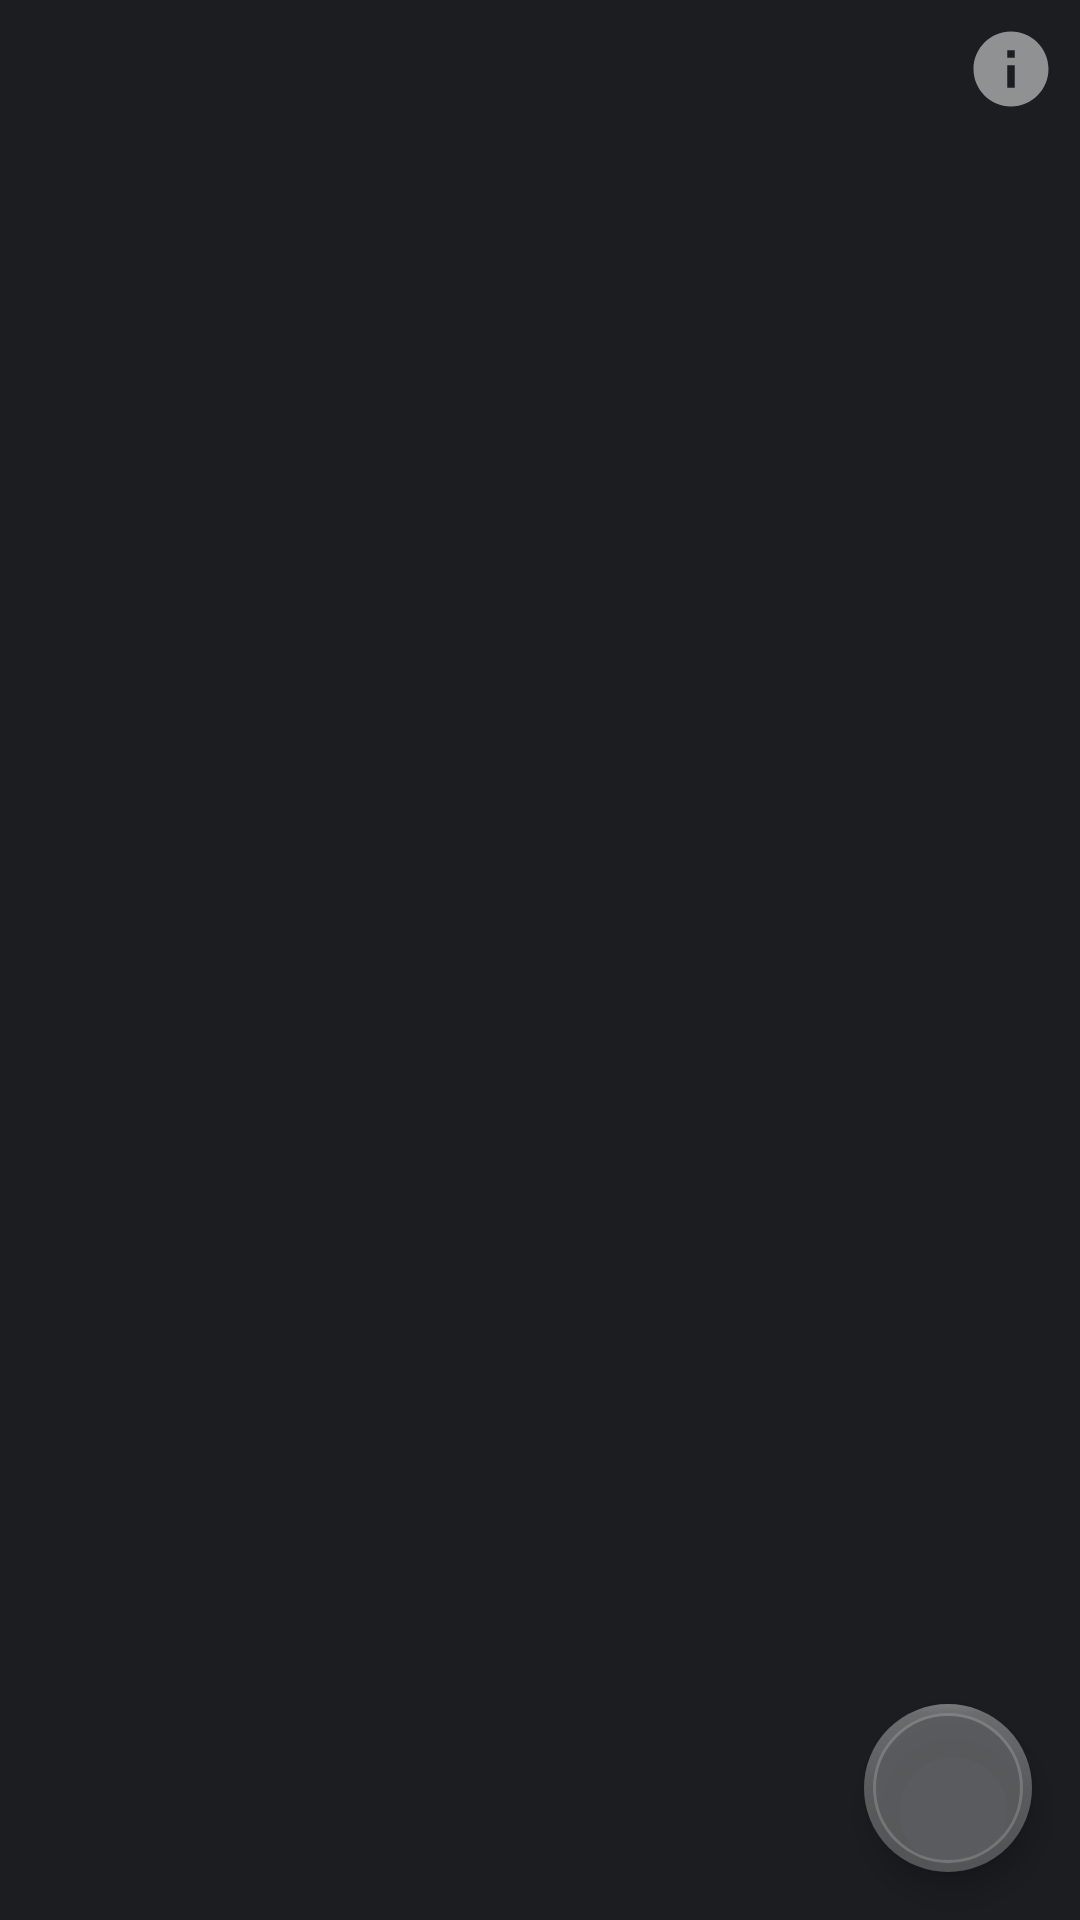

Where icons sit on this 1080w x 1920h app screen, as (x1, y1, x2, y2):
info: (973, 31, 1049, 107)
